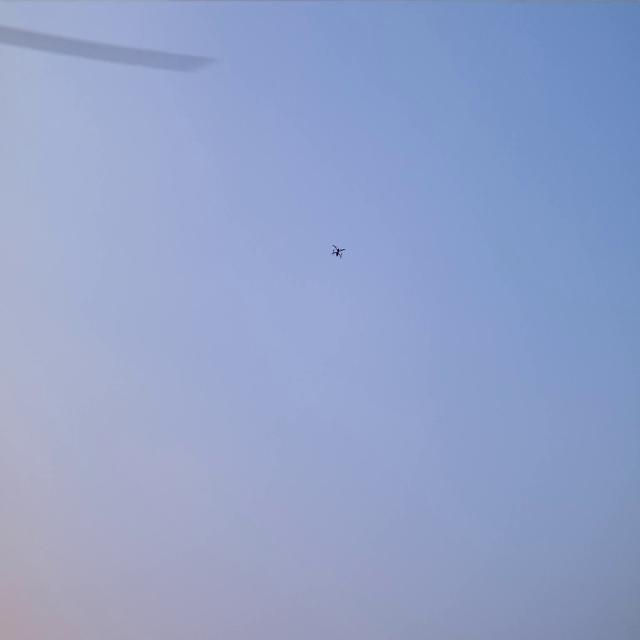UAV: (330, 242, 346, 261)
